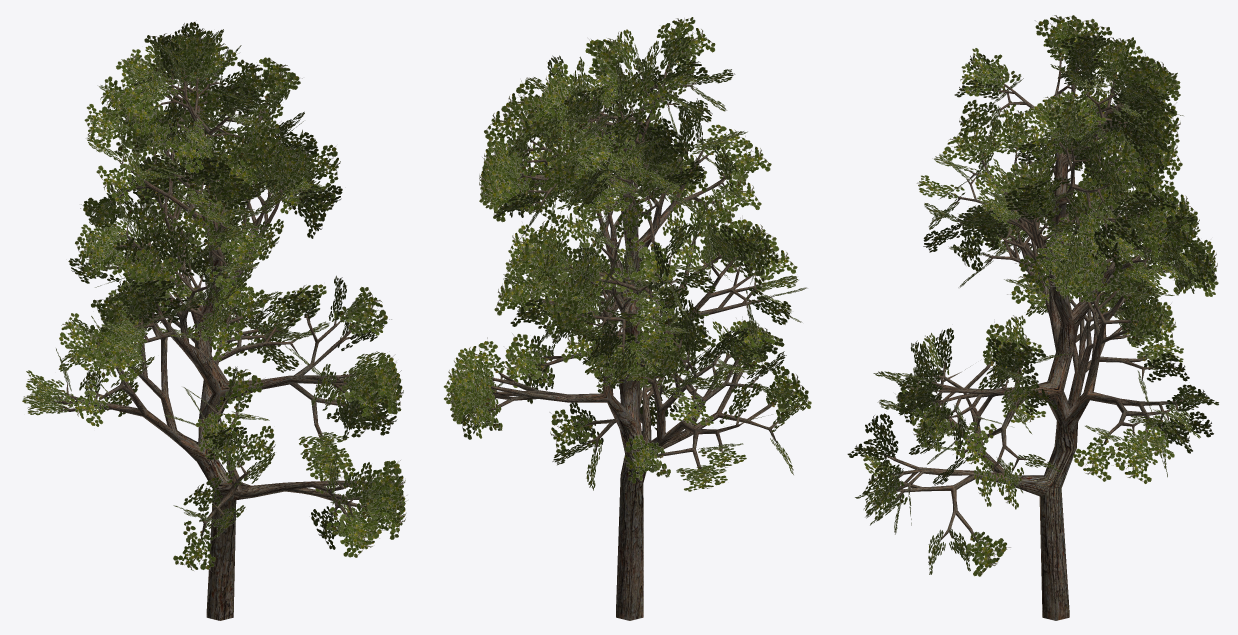
The model's file is tree-4-10.obj.
3 renders of one model, left to right at view 1: azimuth 30°, elevation 25°; view 2: azimuth 150°, elevation 25°; view 3: azimuth 270°, elevation 25°, orthographic. The views are drawn at different scales.
Parts seen in each view (by area): view 1: Twig0, Tree0; view 2: Twig0, Tree0; view 3: Twig0, Tree0.
Boxes of the visible parts, left/top/right/bottom form: Twig0: left=22, top=22, right=407, bottom=571; Tree0: left=53, top=61, right=373, bottom=620; Twig0: left=443, top=17, right=811, bottom=491; Tree0: left=483, top=55, right=781, bottom=620; Twig0: left=847, top=15, right=1218, bottom=576; Tree0: left=881, top=57, right=1184, bottom=620.
Size of the model in its own units: 3.83 by 6.72 by 3.98.
2 materials, 2 textured.
